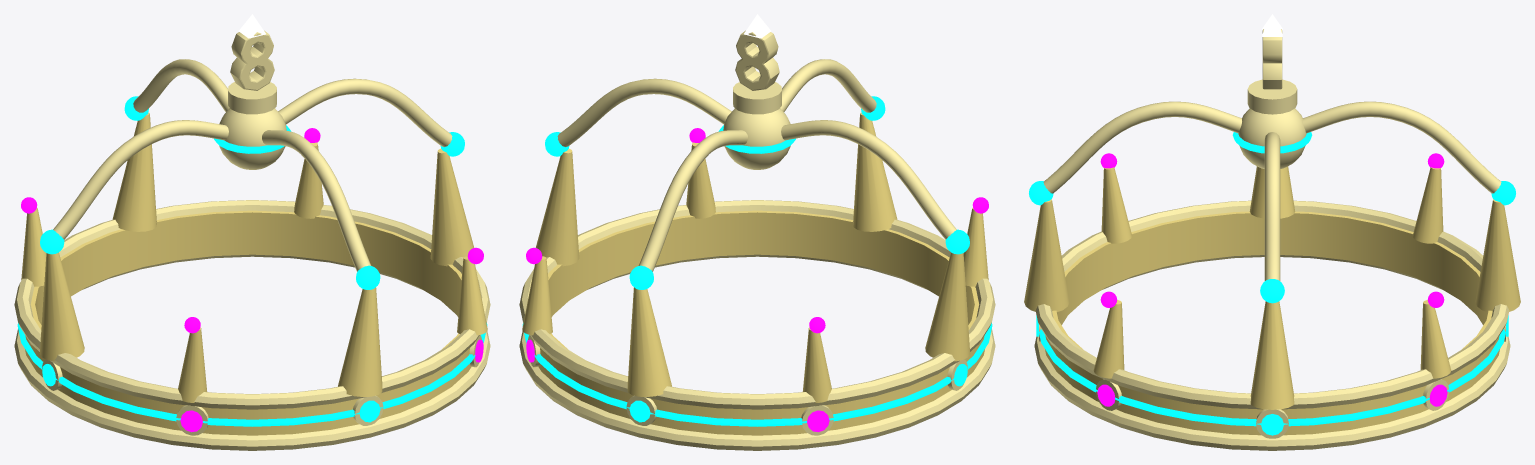
Rendered from winner_crown.glb.
3 views of the same model, side by side, from view 1: azimuth 30°, elevation 25°; view 2: azimuth 150°, elevation 25°; view 3: azimuth 270°, elevation 25° (orthographic).
Visible parts, largest first — view 1: Circlet_Hollow_Band, Torus.001, Torus, Arch_Mesh_3.14, Torus.002, Crown_Spire_6, Crown_Spire_0, Crown_Spire_4, Arch_Mesh_0.00, Crown_Spire_2, Arch_Mesh_4.71, Apex_Orb (+10 smaller); view 2: Circlet_Hollow_Band, Torus.001, Torus, Arch_Mesh_3.14, Torus.002, Crown_Spire_2, Crown_Spire_0, Crown_Spire_4, Arch_Mesh_0.00, Crown_Spire_6, Arch_Mesh_1.57, Apex_Orb (+10 smaller); view 3: Circlet_Hollow_Band, Torus.001, Torus, Arch_Mesh_1.57, Arch_Mesh_4.71, Torus.002, Crown_Spire_0, Crown_Spire_2, Crown_Spire_6, Arch_Mesh_0.00, Apex_Orb, Crown_Spire_3 (+8 smaller).
Part boxes in pixels (x1,y1,x2,y2): Circlet_Hollow_Band: [25, 210, 471, 435]; Torus.001: [14, 200, 490, 409]; Torus: [14, 254, 490, 450]; Arch_Mesh_3.14: [53, 120, 228, 239]; Torus.002: [17, 323, 487, 426]; Crown_Spire_6: [338, 287, 382, 396]; Crown_Spire_0: [430, 148, 474, 266]; Crown_Spire_4: [39, 252, 84, 361]; Arch_Mesh_0.00: [278, 78, 452, 146]; Crown_Spire_2: [112, 112, 156, 231]; Arch_Mesh_4.71: [262, 130, 371, 271]; Apex_Orb: [219, 108, 286, 169]; Circlet_Hollow_Band: [538, 210, 984, 435]; Torus.001: [519, 200, 995, 409]; Torus: [519, 254, 995, 450]; Arch_Mesh_3.14: [781, 120, 956, 239]; Torus.002: [522, 323, 992, 426]; Crown_Spire_2: [627, 287, 671, 396]; Crown_Spire_0: [535, 148, 579, 266]; Crown_Spire_4: [925, 252, 970, 361]; Arch_Mesh_0.00: [557, 78, 731, 146]; Crown_Spire_6: [853, 112, 897, 231]; Arch_Mesh_1.57: [638, 130, 747, 271]; Apex_Orb: [723, 108, 790, 169]; Circlet_Hollow_Band: [1045, 211, 1499, 435]; Torus.001: [1035, 200, 1509, 409]; Torus: [1034, 255, 1510, 450]; Arch_Mesh_1.57: [1303, 101, 1501, 193]; Arch_Mesh_4.71: [1043, 101, 1241, 193]; Torus.002: [1038, 329, 1506, 426]; Crown_Spire_0: [1250, 301, 1294, 409]; Crown_Spire_2: [1475, 199, 1520, 311]; Crown_Spire_6: [1024, 199, 1069, 311]; Arch_Mesh_0.00: [1264, 132, 1280, 280]; Apex_Orb: [1238, 108, 1306, 168]; Crown_Spire_3: [1412, 167, 1443, 243].
Bounding box in the file's own units: 0.4811 × 0.362 × 0.48.
